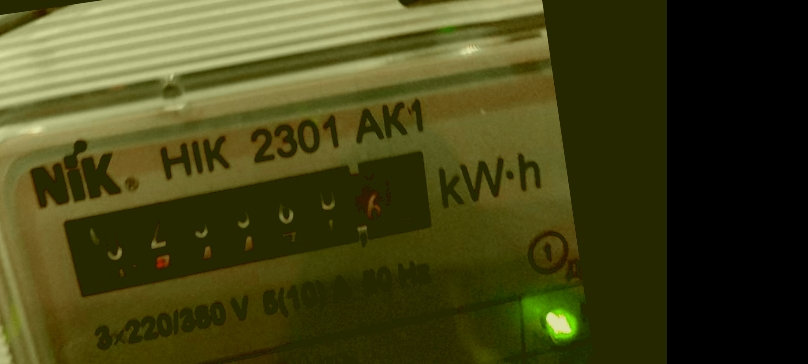0: (96, 219, 127, 265), (312, 173, 340, 213)
2: (139, 207, 170, 250)
3: (185, 199, 212, 242), (226, 191, 254, 232)
6: (268, 184, 300, 229), (361, 186, 387, 224)
screen: (37, 135, 451, 309)
